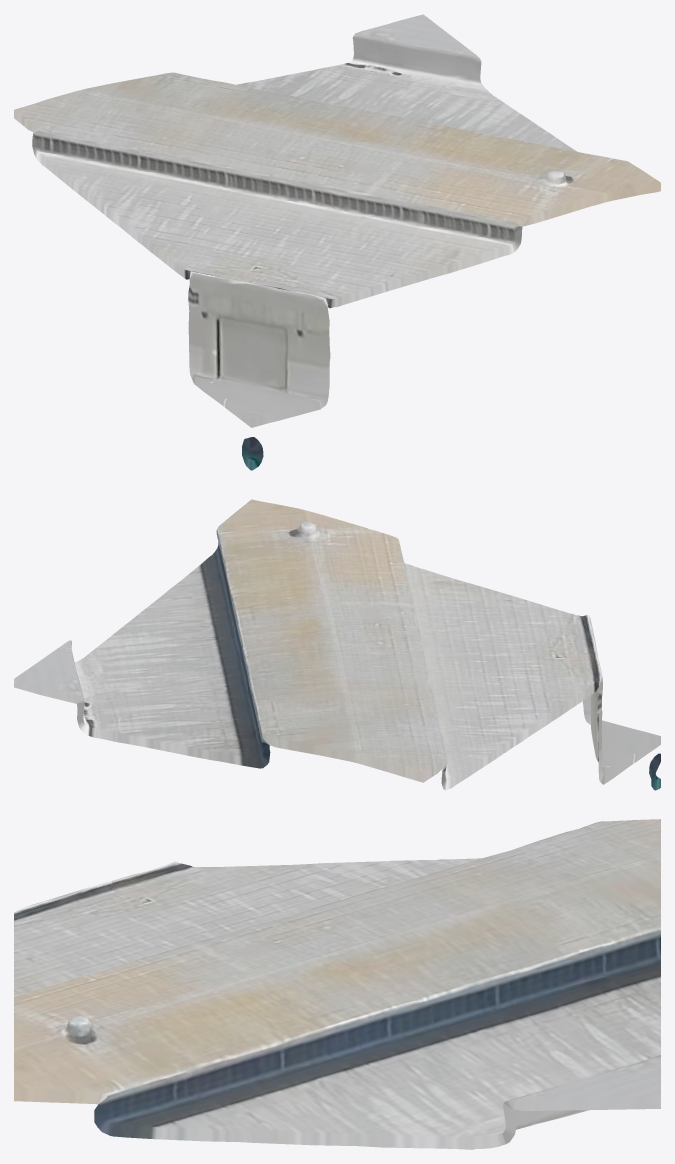
Rendered from z20-167773-405194-h0-yup-uvflip-v3-world.glb.
3 views of the same model, one above another, from view 1: azimuth 30°, elevation 25°; view 2: azimuth 150°, elevation 25°; view 3: azimuth 270°, elevation 25° (orthographic). The views are drawn at different scales.
Size of the model in its own units: 30.16 by 14.2 by 30.32.
1 material, 1 textured.
